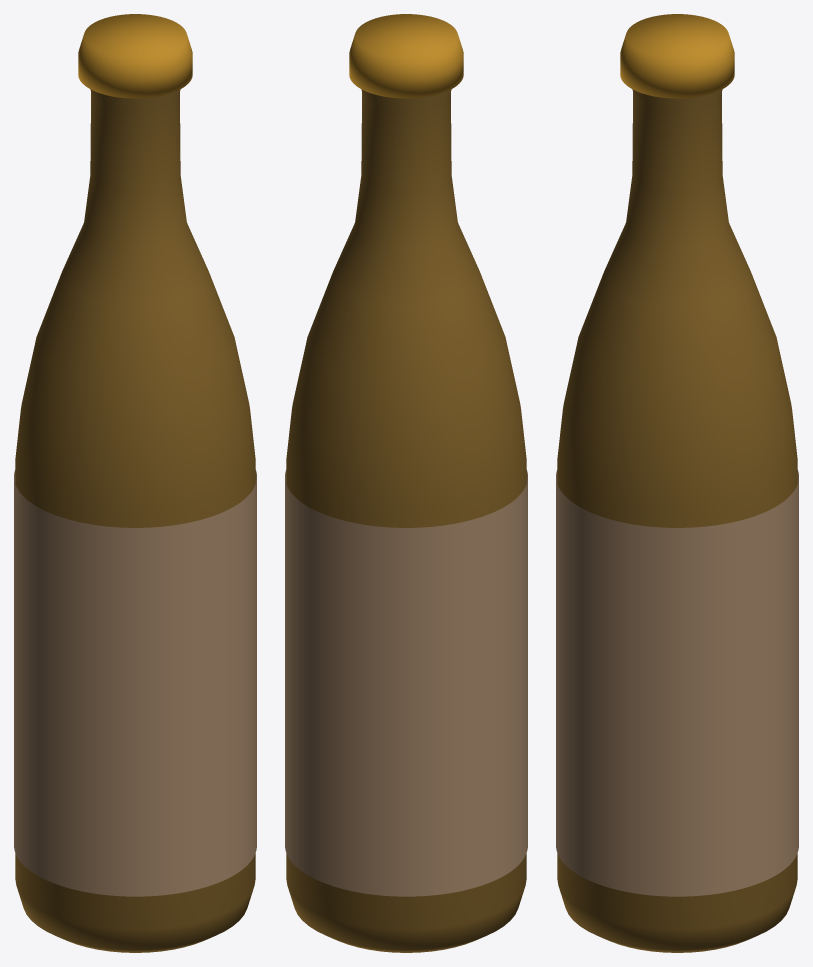
File: beer_wrap_minimal.glb
3 views of the same model, side by side, from view 1: azimuth 30°, elevation 25°; view 2: azimuth 150°, elevation 25°; view 3: azimuth 270°, elevation 25° (orthographic).
Visible parts, largest first — view 1: Label_band, Glass, Cap; view 2: Label_band, Glass, Cap; view 3: Label_band, Glass, Cap.
Part boxes in pixels (x1,y1,x2,y2): Label_band: (14, 470, 256, 896); Glass: (15, 89, 255, 952); Cap: (78, 14, 192, 98); Label_band: (285, 470, 527, 896); Glass: (286, 89, 526, 952); Cap: (349, 14, 463, 98); Label_band: (556, 470, 798, 896); Glass: (557, 89, 797, 952); Cap: (620, 14, 734, 98).
Size of the model in its own units: 0.0657 by 0.2615 by 0.0657.
